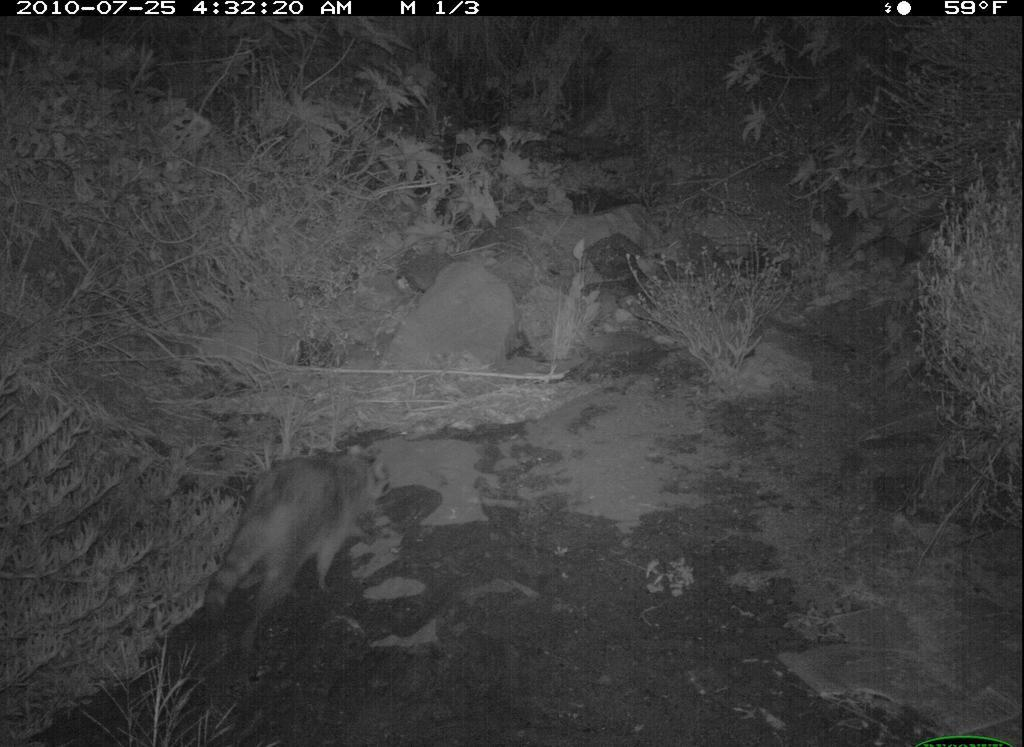raccoon: (194, 443, 415, 664)
